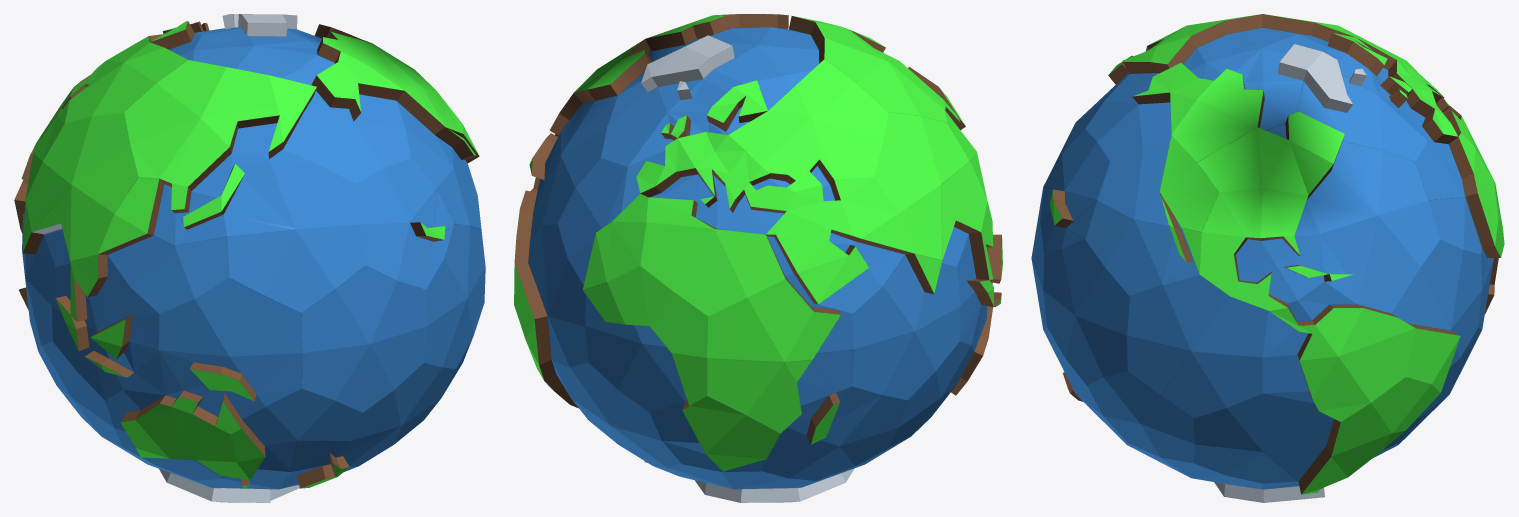
The model's file is globe.glb.
3 views of the same model, side by side, from view 1: azimuth 30°, elevation 25°; view 2: azimuth 150°, elevation 25°; view 3: azimuth 270°, elevation 25° (orthographic).
Visible parts, largest first — view 1: Globe; view 2: Globe; view 3: Globe.
Boxes of the visible parts, x1,y1,x2,y2 form: Globe: (14,14,485,502); Globe: (514,14,1002,502); Globe: (1031,14,1504,502).
Size of the model in its own units: 10.5 by 10.71 by 10.38.
Materials: 1 (1 with a texture image).
